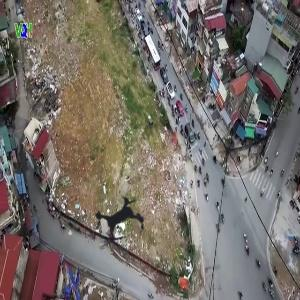drone: (74, 177, 168, 271)
